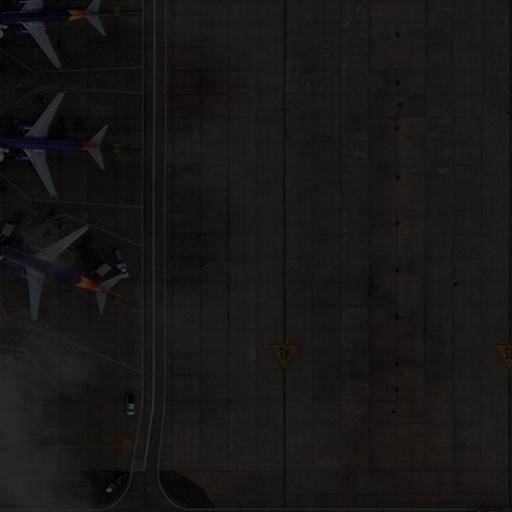Medium Civil Transport: (0, 224, 119, 318), (0, 91, 105, 197), (0, 0, 111, 69)
